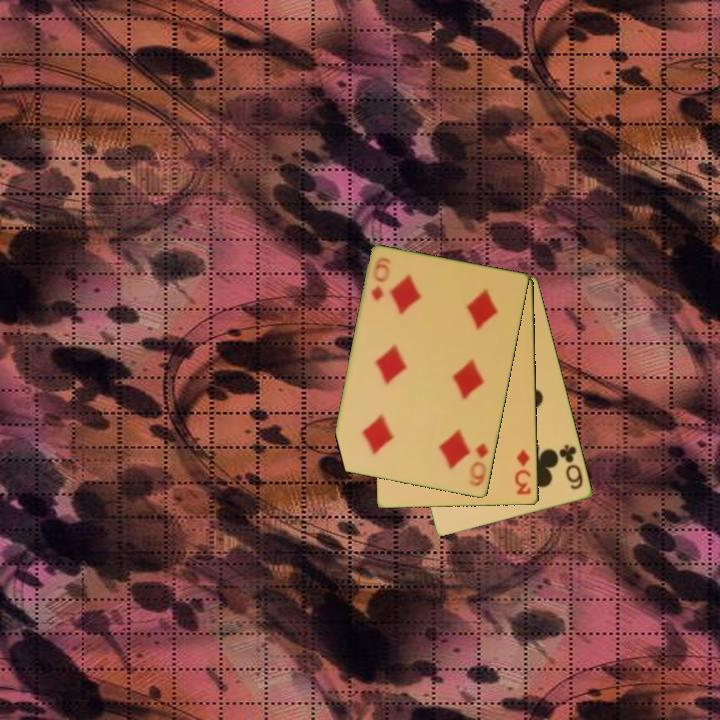3d: (511, 446, 534, 498)
6c: (556, 441, 586, 493)
6d: (466, 440, 491, 489), (368, 260, 393, 304)
